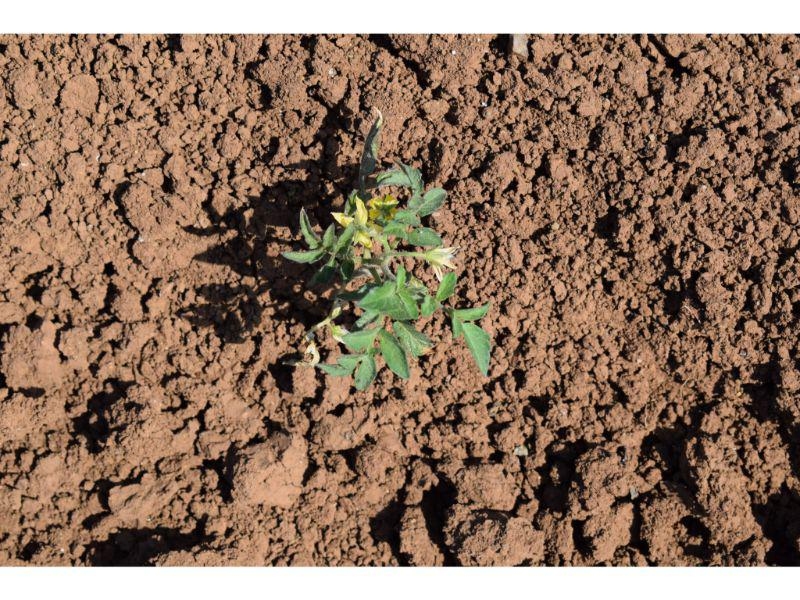tomato: (282, 113, 493, 390)
